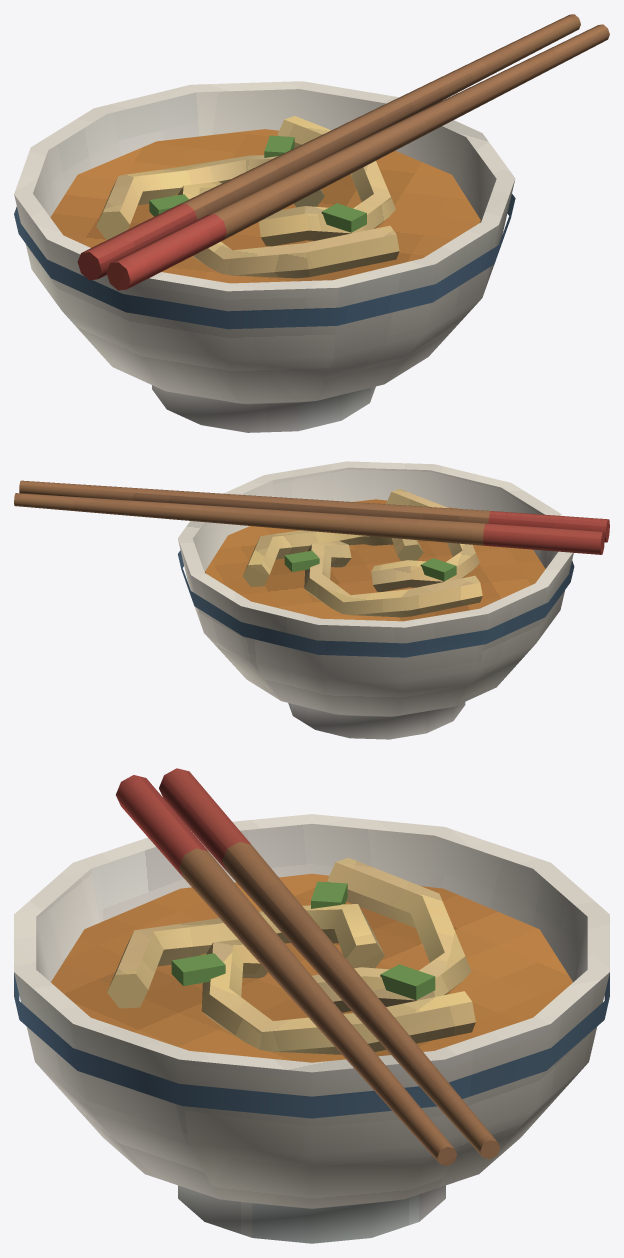
The model's file is bowl_noodles.glb.
3 views of the same model, one above another, from view 1: azimuth 30°, elevation 25°; view 2: azimuth 150°, elevation 25°; view 3: azimuth 270°, elevation 25° (orthographic). The views are drawn at different scales.
Parts seen in each view (by area): view 1: bowl_noodles; view 2: bowl_noodles; view 3: bowl_noodles.
Part boxes in pixels (left/top/right/bottom): bowl_noodles: left=14, top=14, right=609, bottom=432; bowl_noodles: left=14, top=461, right=609, bottom=739; bowl_noodles: left=14, top=768, right=609, bottom=1243.
Size of the model in its own units: 0.2323 by 0.081 by 0.156.
7 materials, 6 textured.
